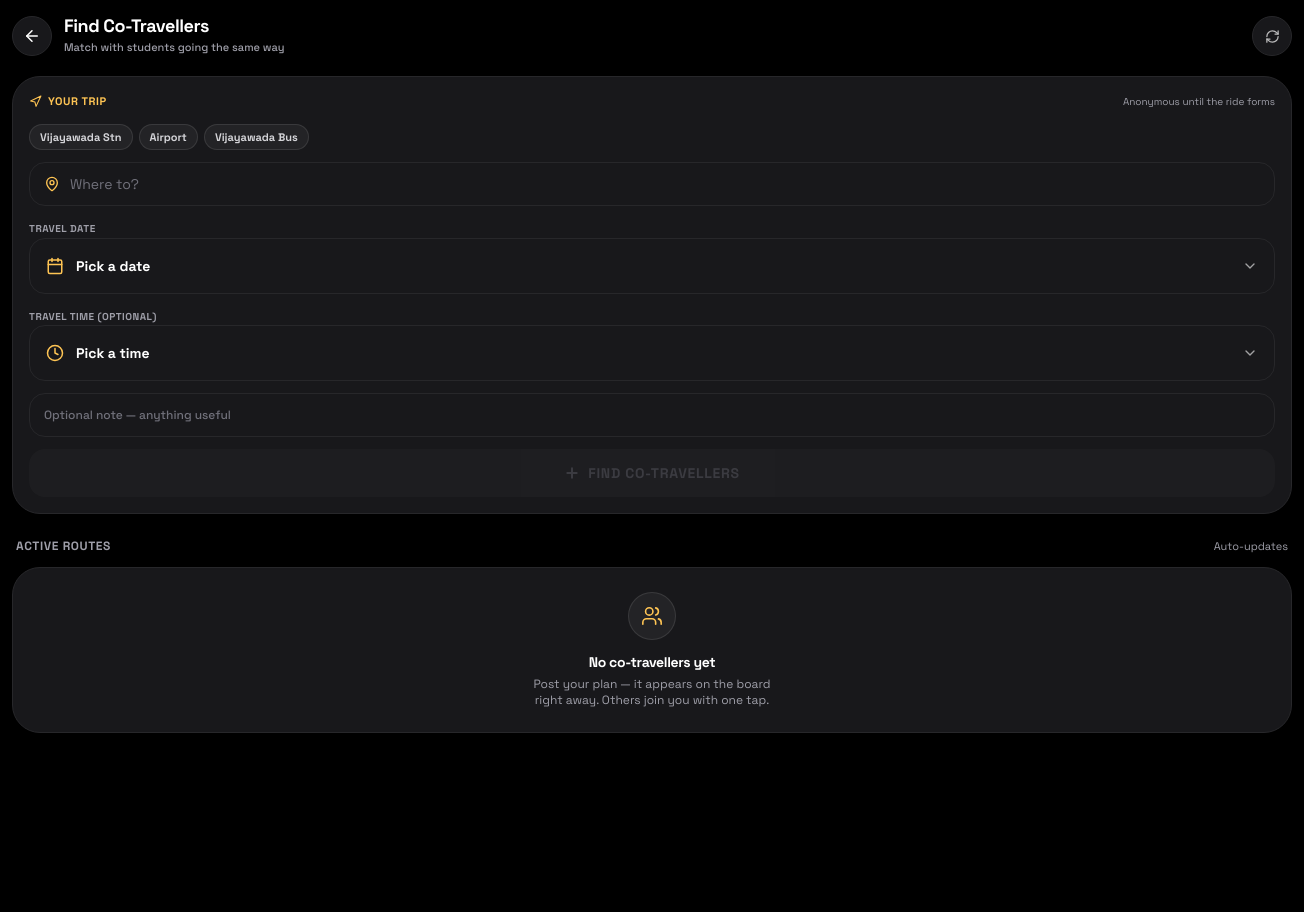
it: RideWantsView Component › Native Android / OS Date and Time Pickers › renders native Travel Time input and updates displayed label on change
The width and height of the screenshot is (1304, 912).
Expected: the text "No co-travellers yet" is shown, [589, 652, 715, 670]
Expected: the text "Pick a time" is shown, [76, 344, 150, 362]
Change time
Replace the text in the time field named "Travel time" with "18:30" at {"x": 652, "y": 353}, box [29, 325, 1275, 381]
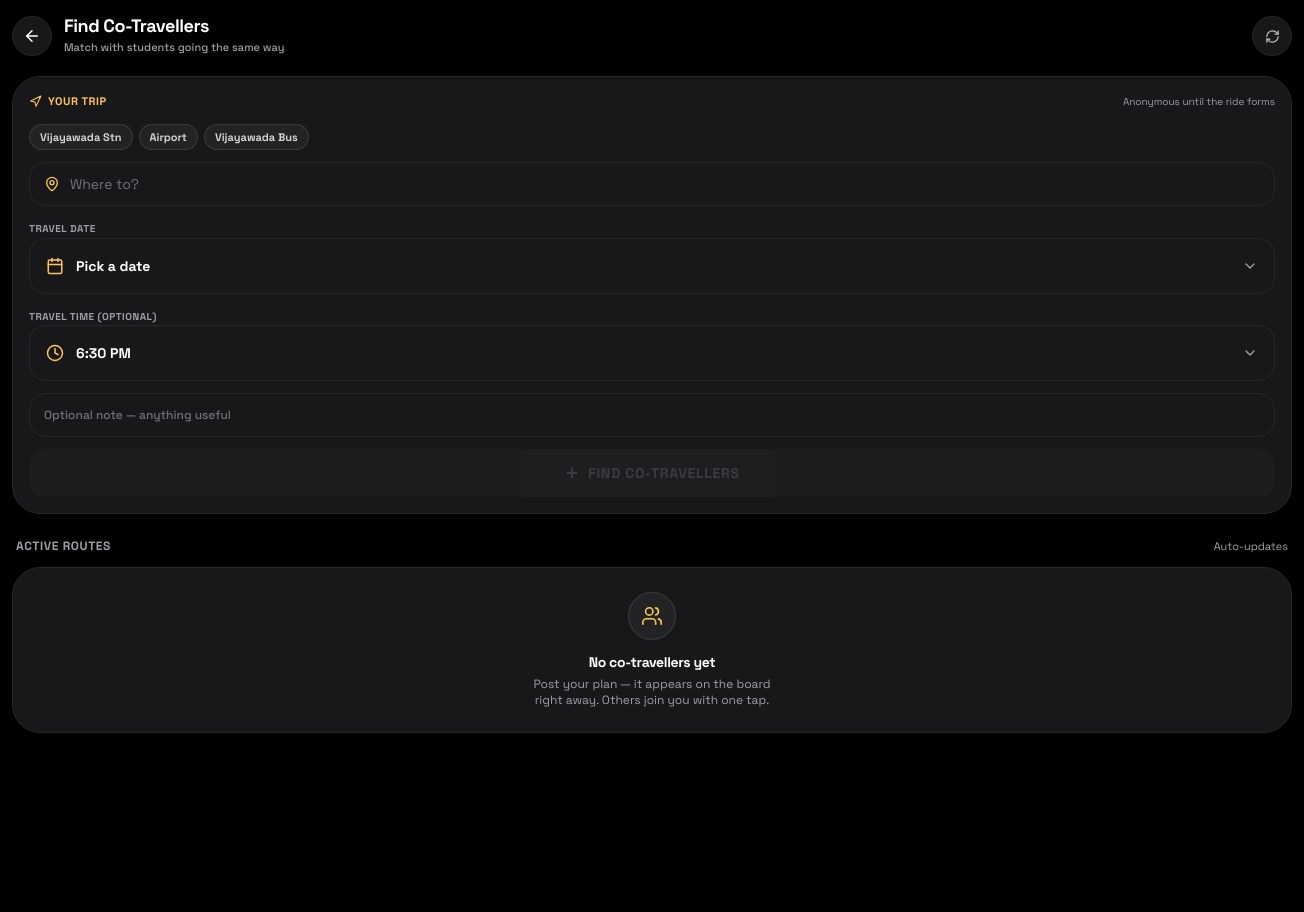
Expected: the text "6:30 PM" is shown, [76, 344, 131, 362]
